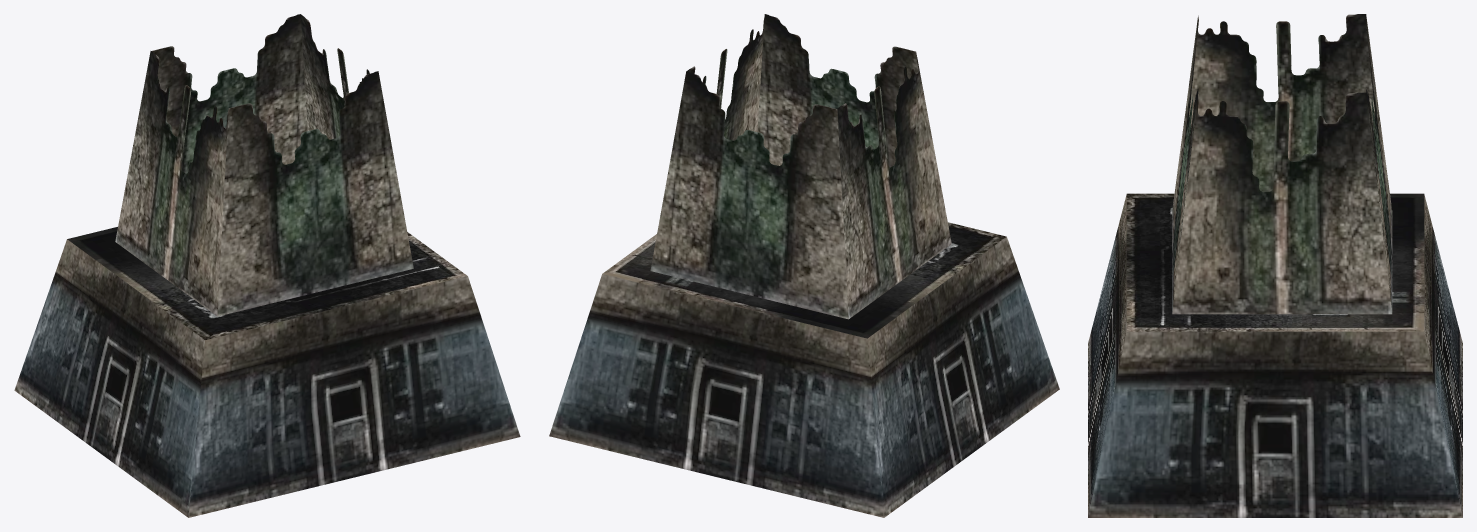
Rendered from lookouttower_dam_hdtex.glb.
3 views of the same model, side by side, from view 1: azimuth 30°, elevation 25°; view 2: azimuth 150°, elevation 25°; view 3: azimuth 270°, elevation 25° (orthographic). The views are drawn at different scales.
Parts seen in each view (by area): view 1: LookoutTowerDam; view 2: LookoutTowerDam; view 3: LookoutTowerDam.
Boxes of the visible parts, left/top/right/bottom form: LookoutTowerDam: left=14, top=14, right=520, bottom=517; LookoutTowerDam: left=549, top=14, right=1059, bottom=517; LookoutTowerDam: left=1088, top=14, right=1462, bottom=517.
Size of the model in its own units: 7.99 by 8.06 by 7.26.
1 material, 1 textured.
